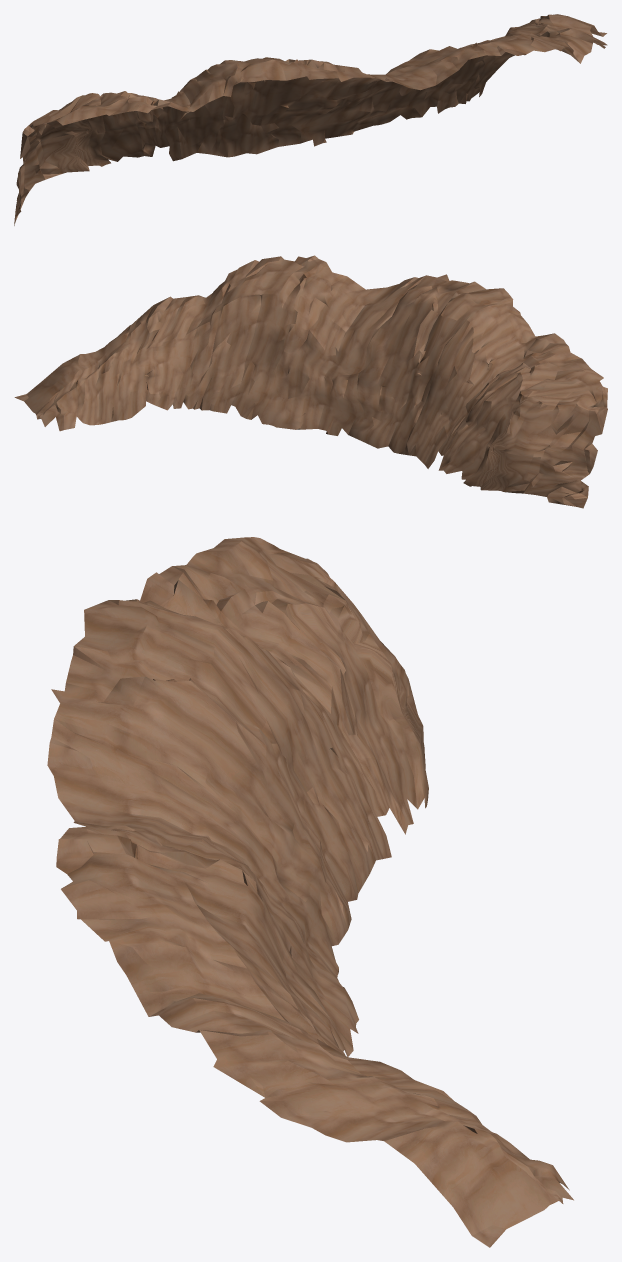
The model's file is SM_ENV_LKNVLD_FaceRock_BG_02.FBX.
3 renders of one model, top to bottom at view 1: azimuth 30°, elevation 25°; view 2: azimuth 150°, elevation 25°; view 3: azimuth 270°, elevation 25°, orthographic. The views are drawn at different scales.
Parts seen in each view (by area): view 1: SM_ENV_LKNVLD_FaceRock_BG_02; view 2: SM_ENV_LKNVLD_FaceRock_BG_02; view 3: SM_ENV_LKNVLD_FaceRock_BG_02.
Part boxes in pixels (x1,y1,x2,y2): SM_ENV_LKNVLD_FaceRock_BG_02: (14, 14, 607, 225); SM_ENV_LKNVLD_FaceRock_BG_02: (14, 255, 607, 508); SM_ENV_LKNVLD_FaceRock_BG_02: (47, 537, 573, 1247).
Bounding box in the file's own units: 51756 × 12529 × 21832.
